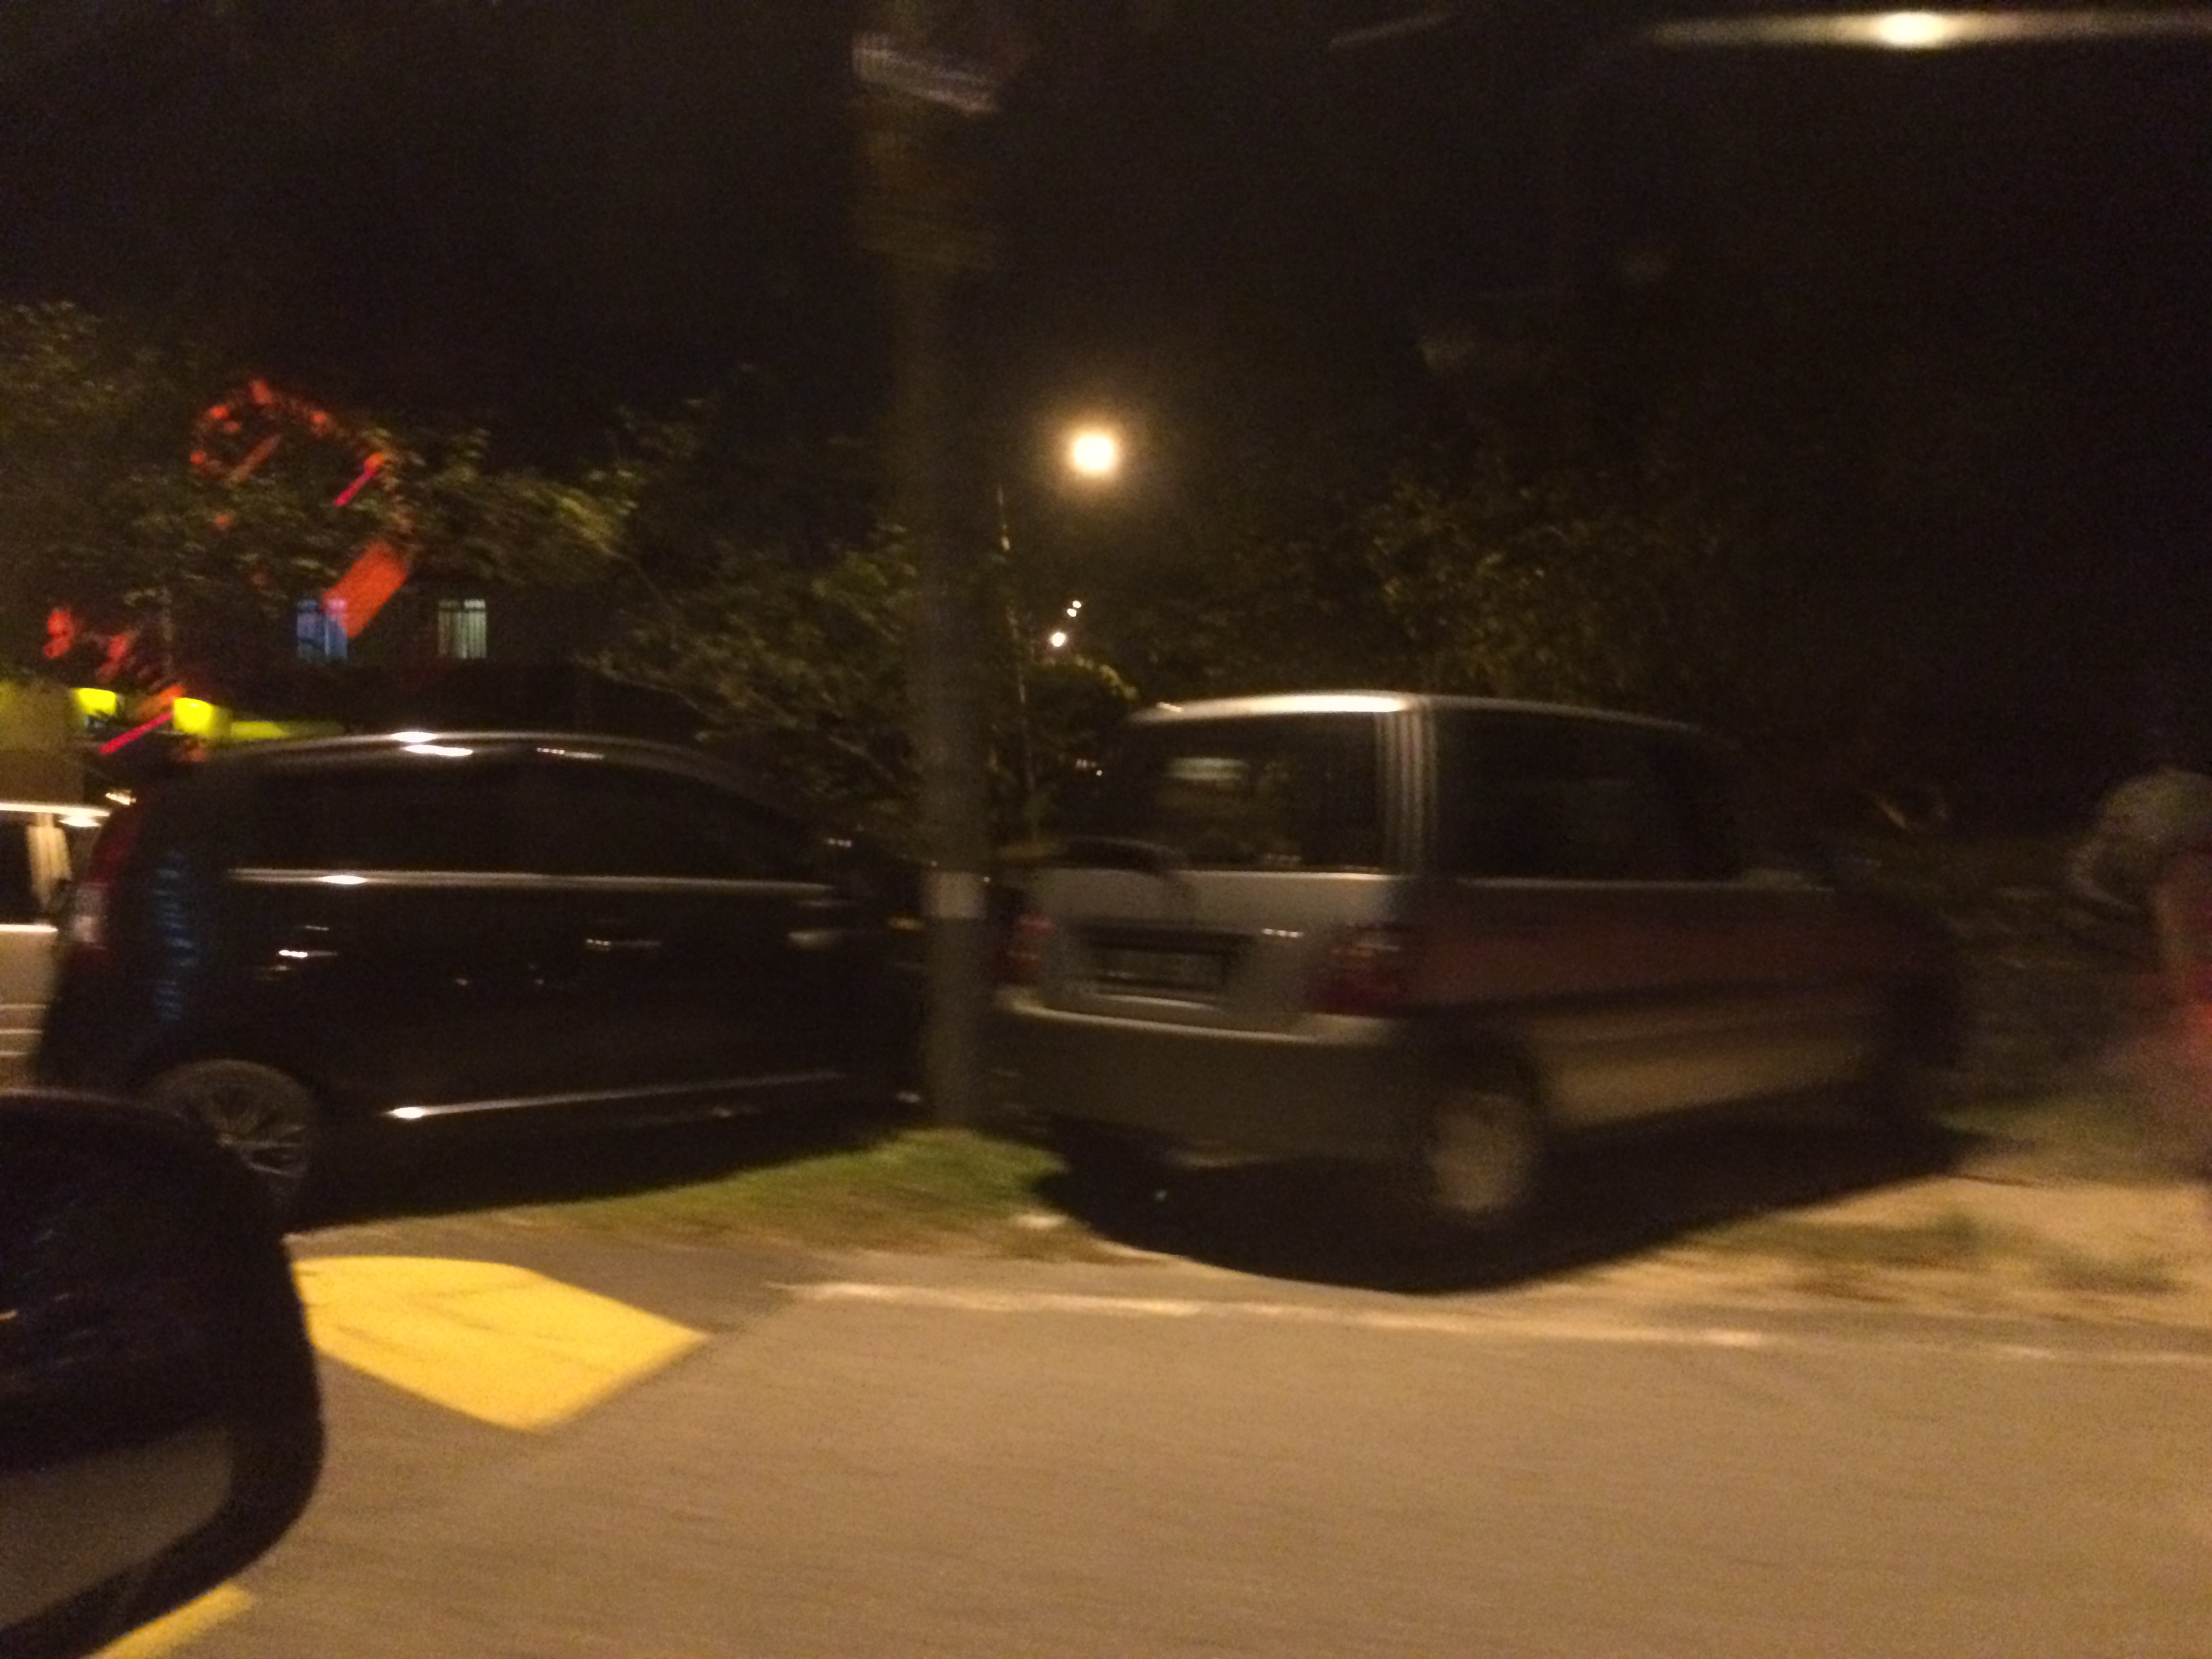car: (967, 643, 1998, 1277)
